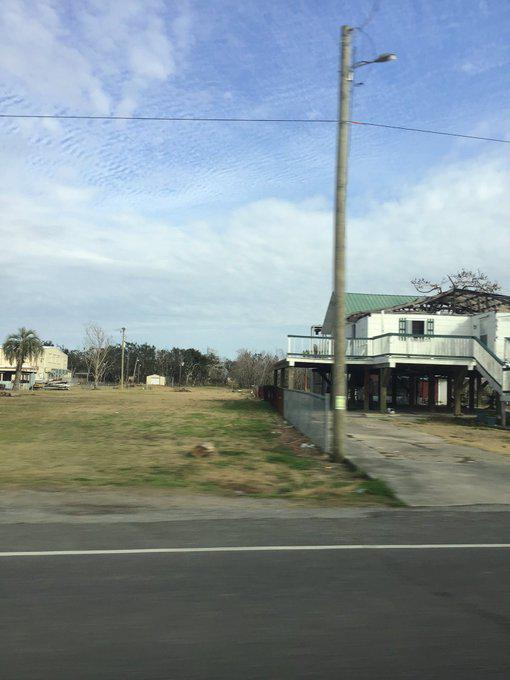major: (258, 263, 510, 484)
